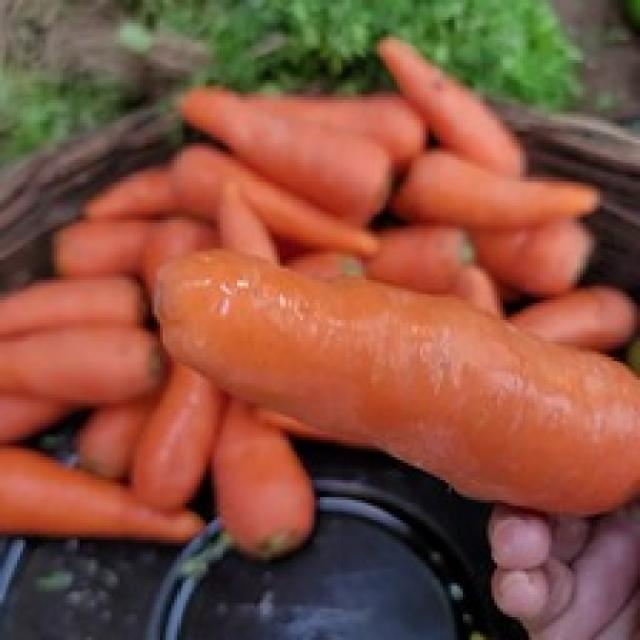Fresh_Carrot: (166, 225, 640, 507), (109, 96, 575, 293), (0, 225, 186, 616)
